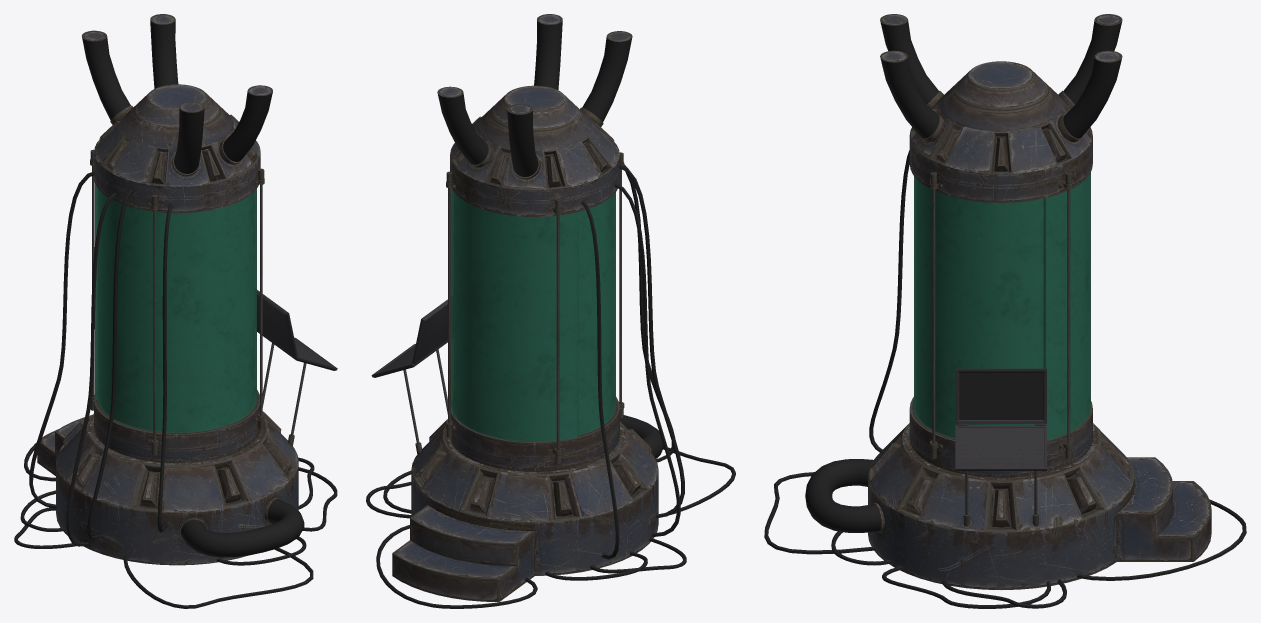
Rendered from grade one time_machine.glb.
The picture shows the model from 3 angles, left to right: view 1: azimuth 30°, elevation 25°; view 2: azimuth 150°, elevation 25°; view 3: azimuth 270°, elevation 25°; orthographic projection. The views are drawn at different scales.
Parts seen in each view (by area): view 1: Cylinder.021, Cylinder.017, Cylinder.018; view 2: Cylinder.021, Cylinder.018, Cylinder.017; view 3: Cylinder.021, Cylinder.017, Cylinder.018.
Boxes of the visible parts, left/top/right/bottom form: Cylinder.021: left=14, top=14, right=337, bottom=608; Cylinder.017: left=98, top=188, right=256, bottom=432; Cylinder.018: left=95, top=183, right=97, bottom=399; Cylinder.021: left=366, top=14, right=735, bottom=608; Cylinder.018: left=451, top=188, right=577, bottom=441; Cylinder.017: left=578, top=192, right=615, bottom=435; Cylinder.021: left=764, top=14, right=1246, bottom=608; Cylinder.017: left=914, top=176, right=1044, bottom=438; Cylinder.018: left=1044, top=172, right=1090, bottom=440.
Size of the model in its own units: 347 by 497 by 438.
2 materials, 2 textured.
